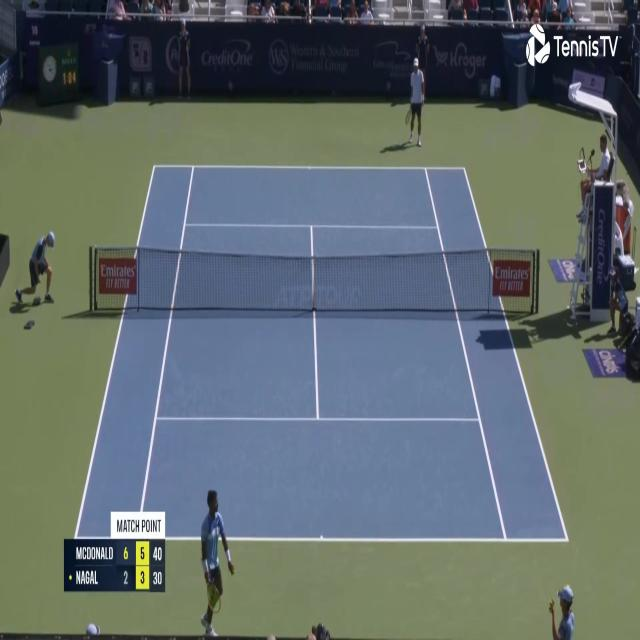tennis-player: (198, 486, 236, 638), (404, 53, 425, 148)
